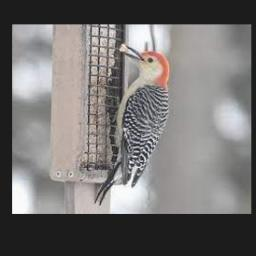Woodpecker: (94, 44, 169, 205)
